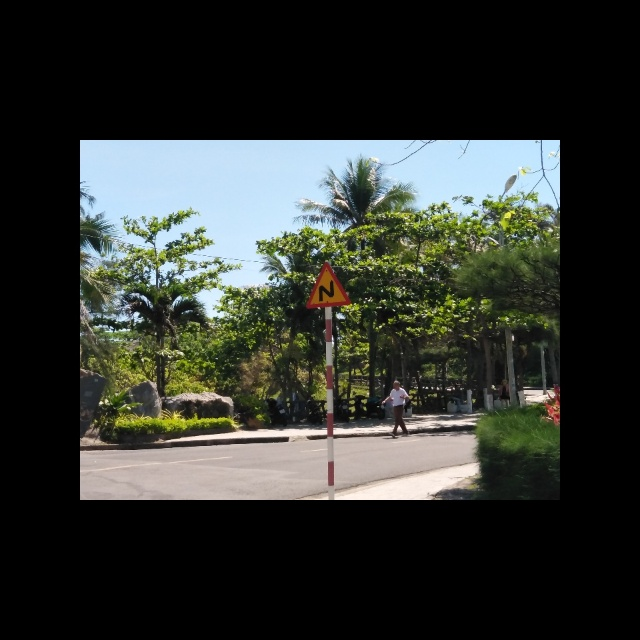Ngoặt nguy hiểm liên tiếp bên phải: (306, 263, 353, 309)
